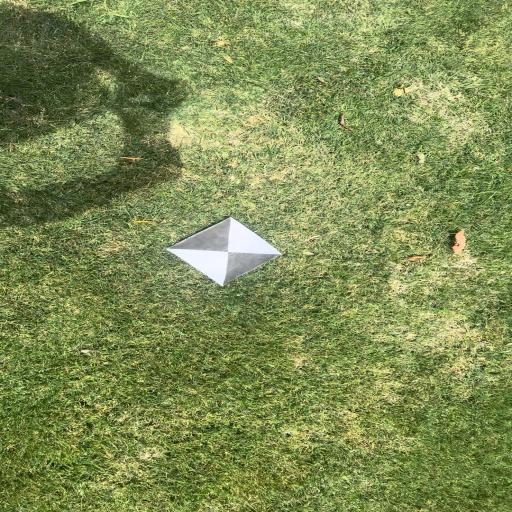target: (166, 216, 281, 286)
